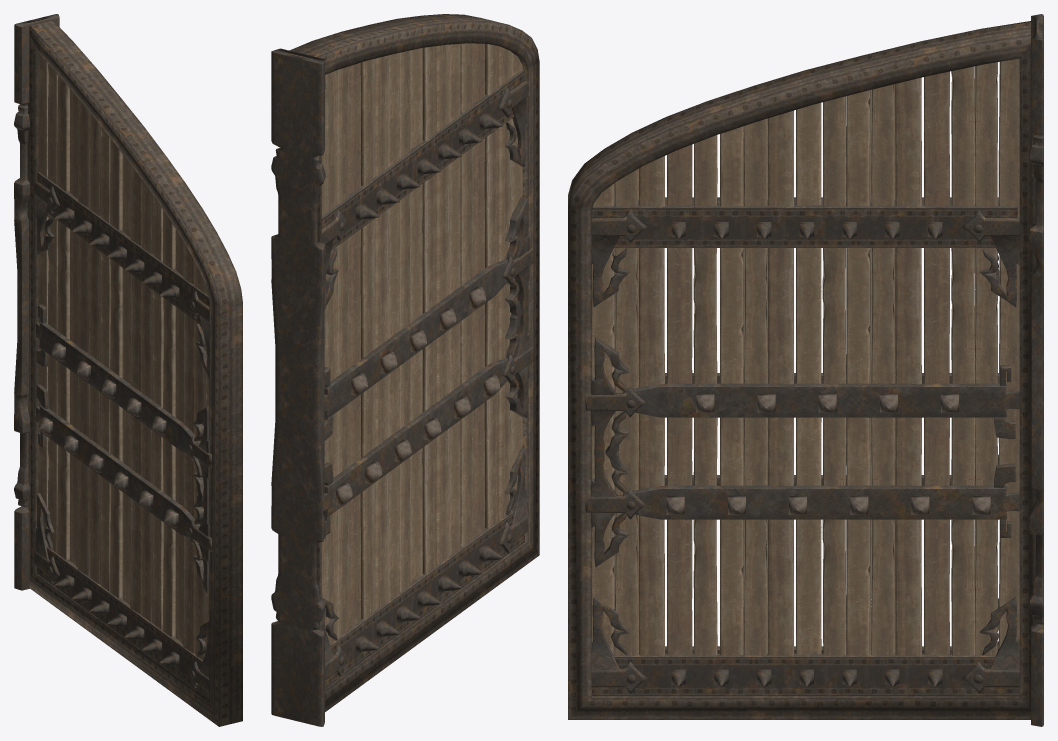
The picture shows the model from 3 angles, left to right: view 1: azimuth 30°, elevation 25°; view 2: azimuth 150°, elevation 25°; view 3: azimuth 270°, elevation 25°; orthographic projection. The views are drawn at different scales.
Visible parts, largest first — view 1: SM_Dowdun_Walkway_Arch_14x8_Door_01_LOD0; view 2: SM_Dowdun_Walkway_Arch_14x8_Door_01_LOD0; view 3: SM_Dowdun_Walkway_Arch_14x8_Door_01_LOD0.
Boxes of the visible parts, bbox=[...] form: SM_Dowdun_Walkway_Arch_14x8_Door_01_LOD0: bbox=[14, 14, 242, 726]; SM_Dowdun_Walkway_Arch_14x8_Door_01_LOD0: bbox=[271, 14, 539, 726]; SM_Dowdun_Walkway_Arch_14x8_Door_01_LOD0: bbox=[568, 14, 1043, 726].
Size of the model in its own units: 0.7537 by 7.97 by 5.
4 materials, 4 textured.
